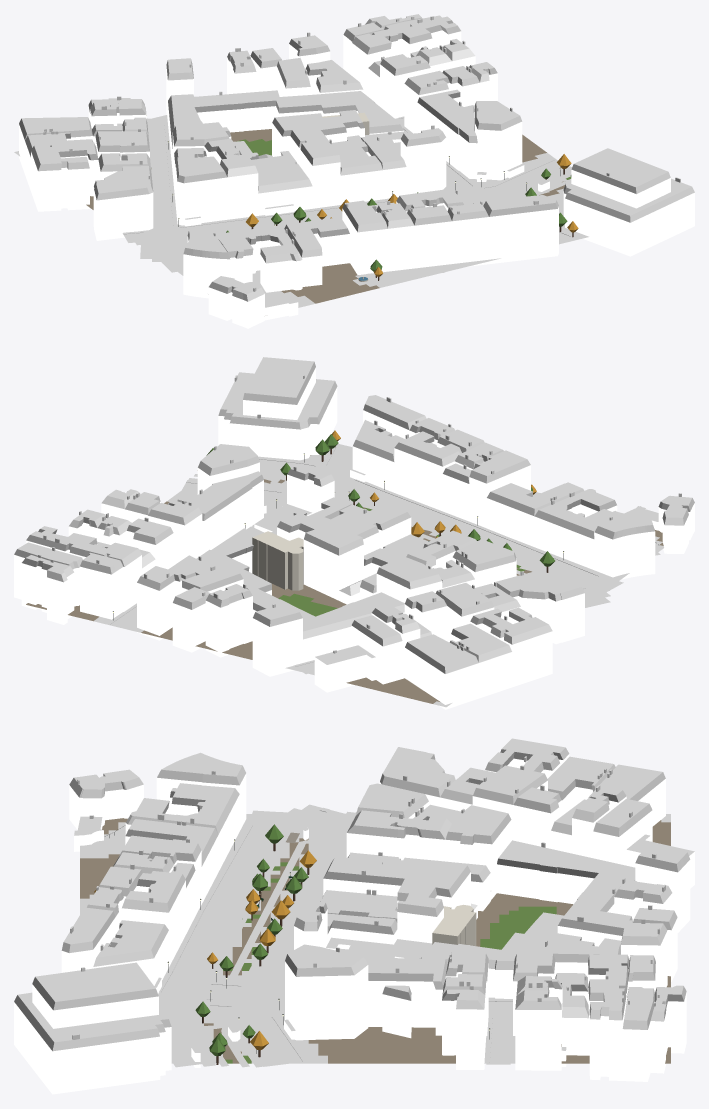
The model's file is zone_D2.glb.
The picture shows the model from 3 angles, top to bottom: view 1: azimuth 30°, elevation 25°; view 2: azimuth 150°, elevation 25°; view 3: azimuth 270°, elevation 25°; orthographic projection. The views are drawn at different scales.
Visible parts, largest first — view 1: zone_D2_batiments, zone_D2_sol_NOCOL, zone_D2_terrain, zone_D2_decor_NOCOL; view 2: zone_D2_batiments, zone_D2_sol_NOCOL, zone_D2_terrain, zone_D2_decor_NOCOL; view 3: zone_D2_batiments, zone_D2_sol_NOCOL, zone_D2_terrain, zone_D2_decor_NOCOL.
Boxes of the visible parts, x1,y1,x2,y2 form: zone_D2_batiments: [19, 14, 694, 328]; zone_D2_sol_NOCOL: [122, 104, 572, 306]; zone_D2_terrain: [14, 104, 588, 307]; zone_D2_decor_NOCOL: [146, 115, 578, 281]; zone_D2_batiments: [14, 357, 694, 709]; zone_D2_sol_NOCOL: [107, 447, 660, 674]; zone_D2_terrain: [26, 443, 663, 707]; zone_D2_decor_NOCOL: [113, 430, 658, 620]; zone_D2_batiments: [14, 738, 694, 1094]; zone_D2_sol_NOCOL: [83, 804, 512, 1067]; zone_D2_terrain: [80, 814, 670, 1063]; zone_D2_decor_NOCOL: [94, 824, 490, 1064].
Bounding box in the file's own units: 222 × 28.09 × 214.
